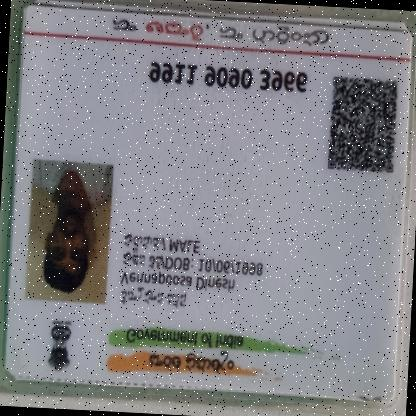aadhaar_card: (0, 0, 415, 409)
